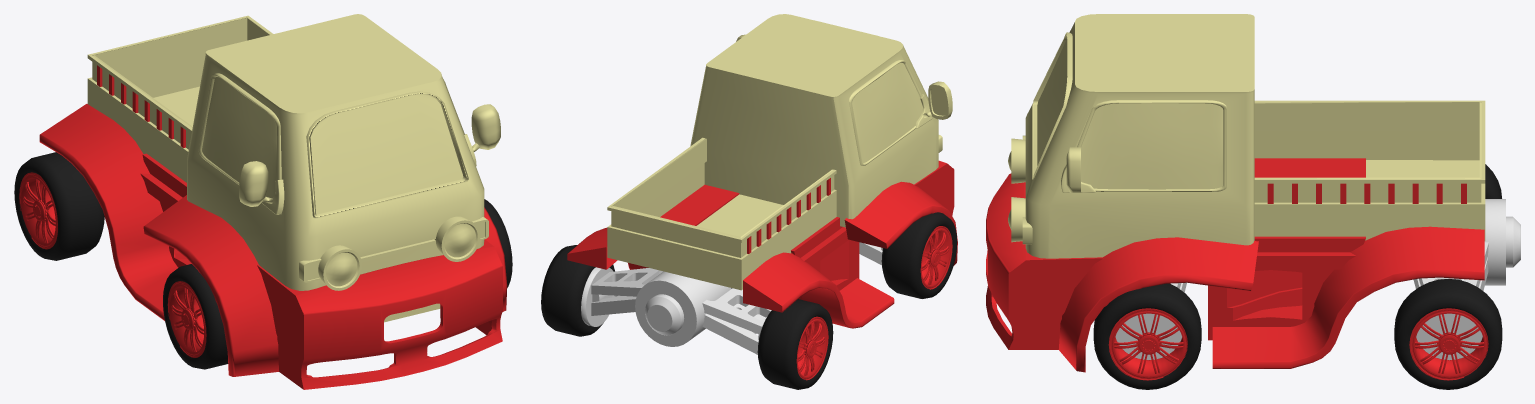
Rendered from Car_chassis.fbx.
3 views of the same model, side by side, from view 1: azimuth 30°, elevation 25°; view 2: azimuth 150°, elevation 25°; view 3: azimuth 270°, elevation 25° (orthographic). The views are drawn at different scales.
Visible parts, largest first — view 1: Drive_Train, Wheel_1, Wheel_3, Wheel_4; view 2: Drive_Train, Wheel_1, Wheel_3, Wheel_2, Wheel_Bearing_2, Wheel_Bearing_1; view 3: Drive_Train, Wheel_2, Wheel_4, Wheel_Bearing_2, Wheel_Bearing_4.
Boxes of the visible parts, x1,y1,x2,y2 form: Drive_Train: [39, 14, 507, 389]; Wheel_1: [14, 152, 104, 260]; Wheel_3: [163, 264, 228, 369]; Wheel_4: [484, 199, 512, 287]; Drive_Train: [567, 14, 957, 346]; Wheel_1: [757, 299, 833, 389]; Wheel_3: [881, 212, 957, 298]; Wheel_2: [541, 245, 614, 336]; Wheel_Bearing_2: [581, 267, 662, 326]; Wheel_Bearing_1: [702, 288, 771, 354]; Drive_Train: [986, 14, 1520, 372]; Wheel_2: [1394, 278, 1502, 389]; Wheel_4: [1093, 283, 1201, 389]; Wheel_Bearing_2: [1413, 242, 1488, 360]; Wheel_Bearing_4: [1115, 282, 1186, 359].
Bounding box in the file's own units: 311 × 255 × 467.
